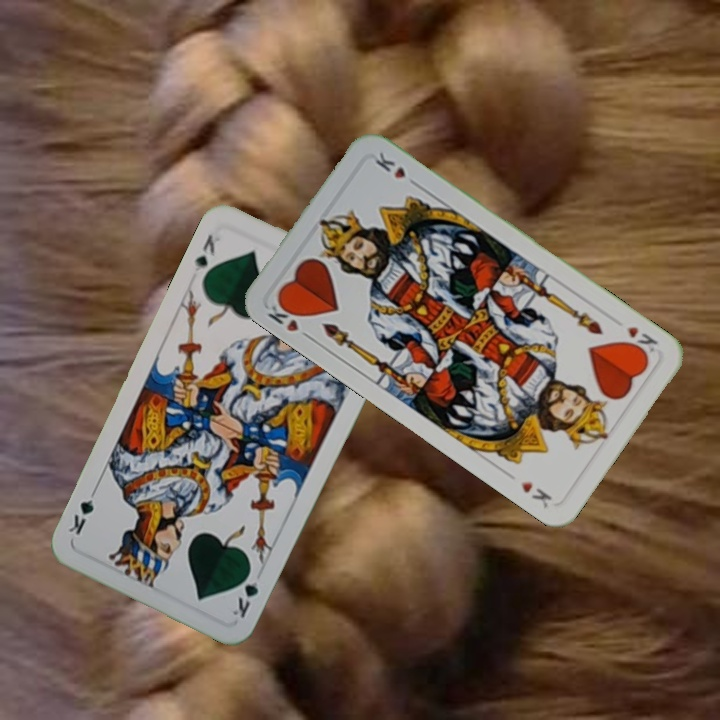GK: (228, 564, 261, 621), (190, 230, 223, 276)
HK: (264, 295, 315, 343), (620, 322, 661, 359)
